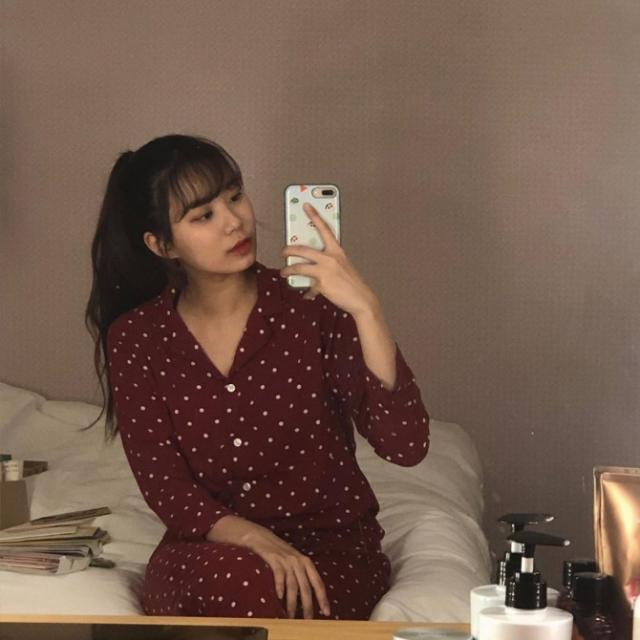Mobile: (285, 179, 344, 290)
